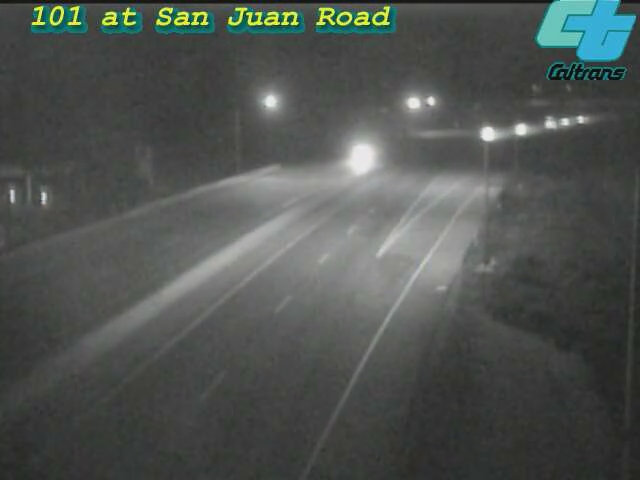vehicle: (339, 133, 389, 183), (558, 95, 608, 145), (543, 97, 593, 147), (526, 97, 576, 147), (497, 104, 547, 154), (464, 108, 514, 158)
